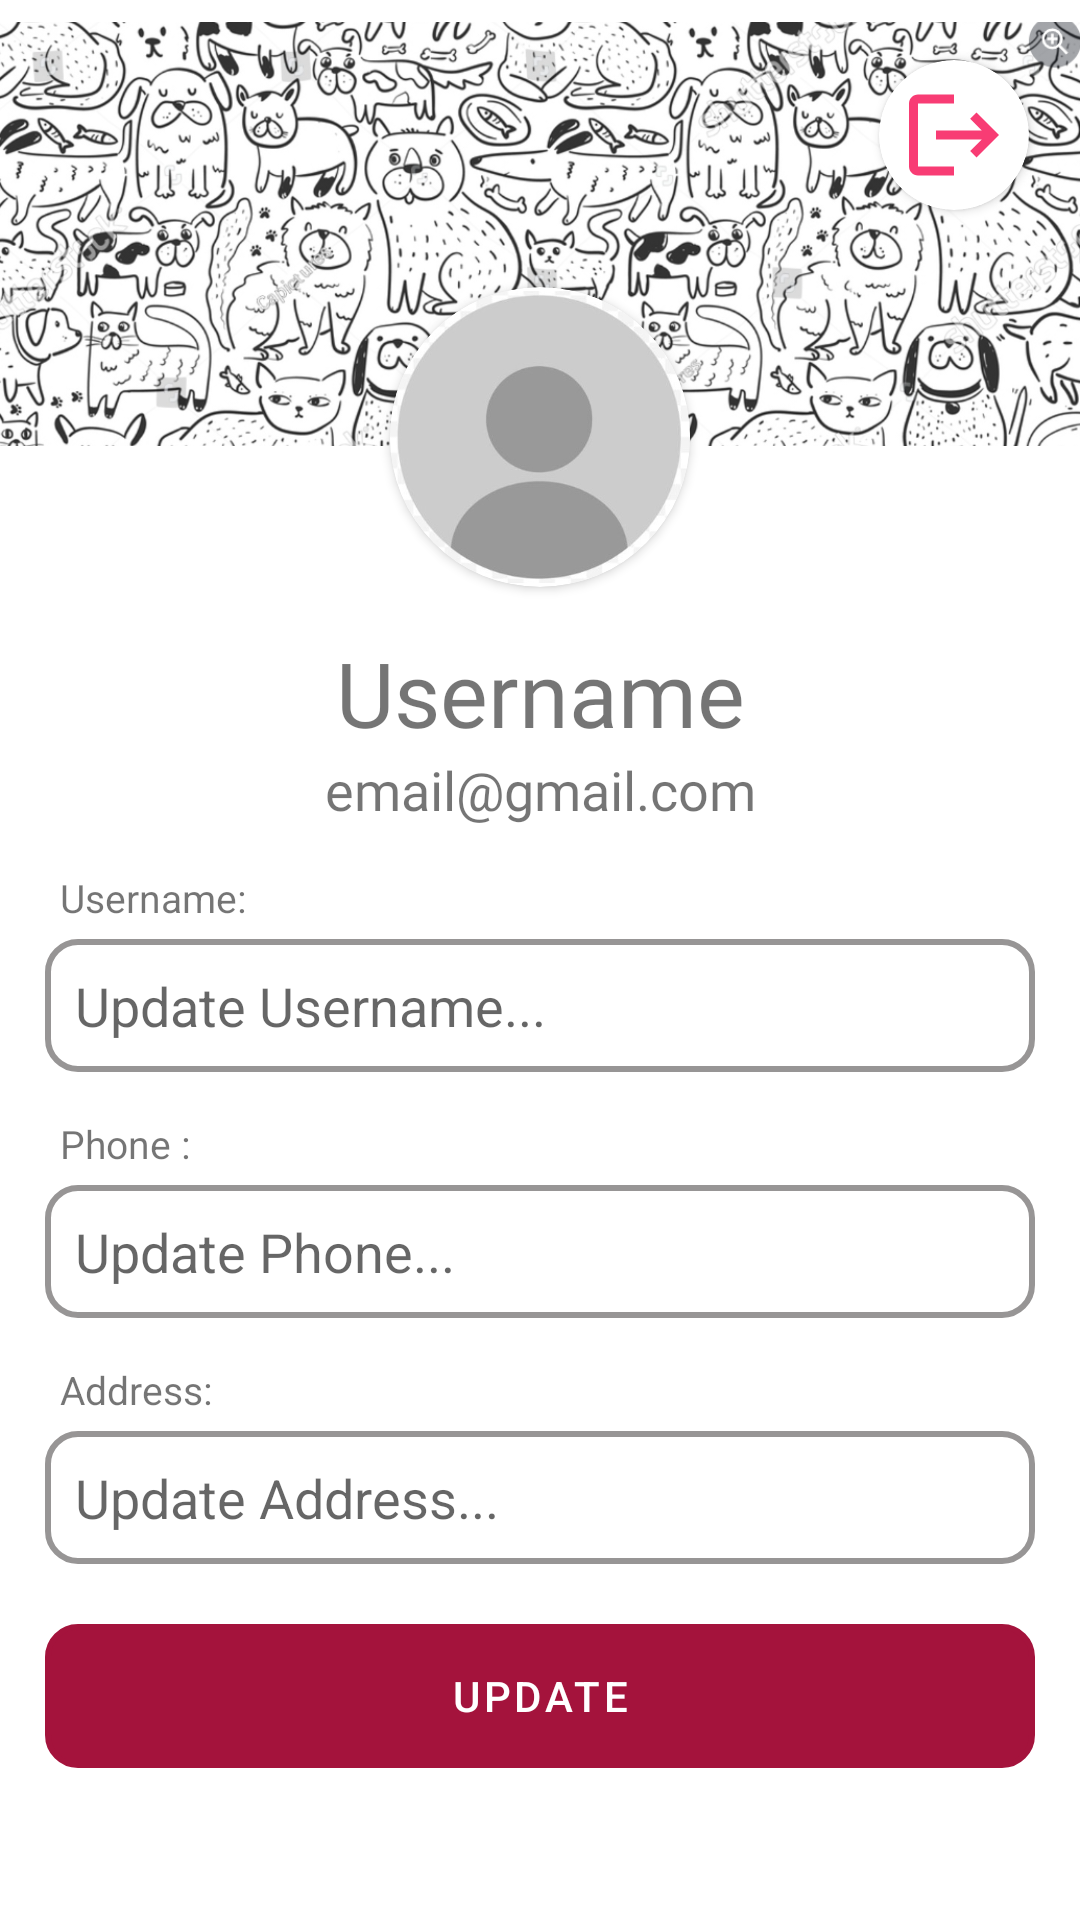

Locate icon controls on the screen. Image size 1080px x 1920px, boxes as region(x1, y1, x2, y2).
myprofile: region(390, 287, 690, 587)
